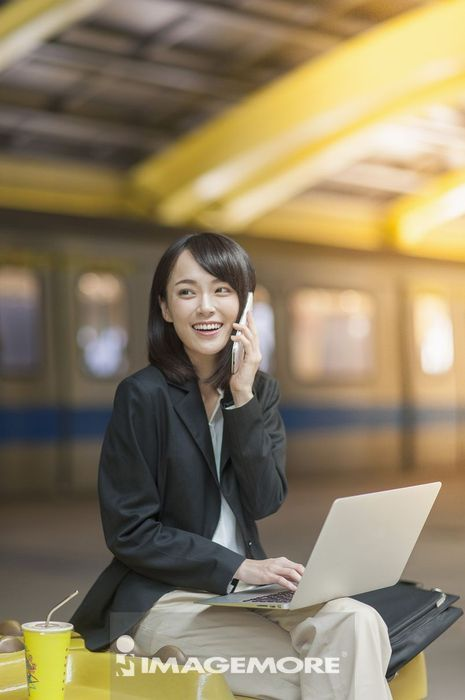phone: (228, 290, 254, 376)
talk: (169, 275, 266, 394)
